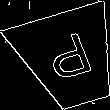P_S: (40, 29, 99, 89)
